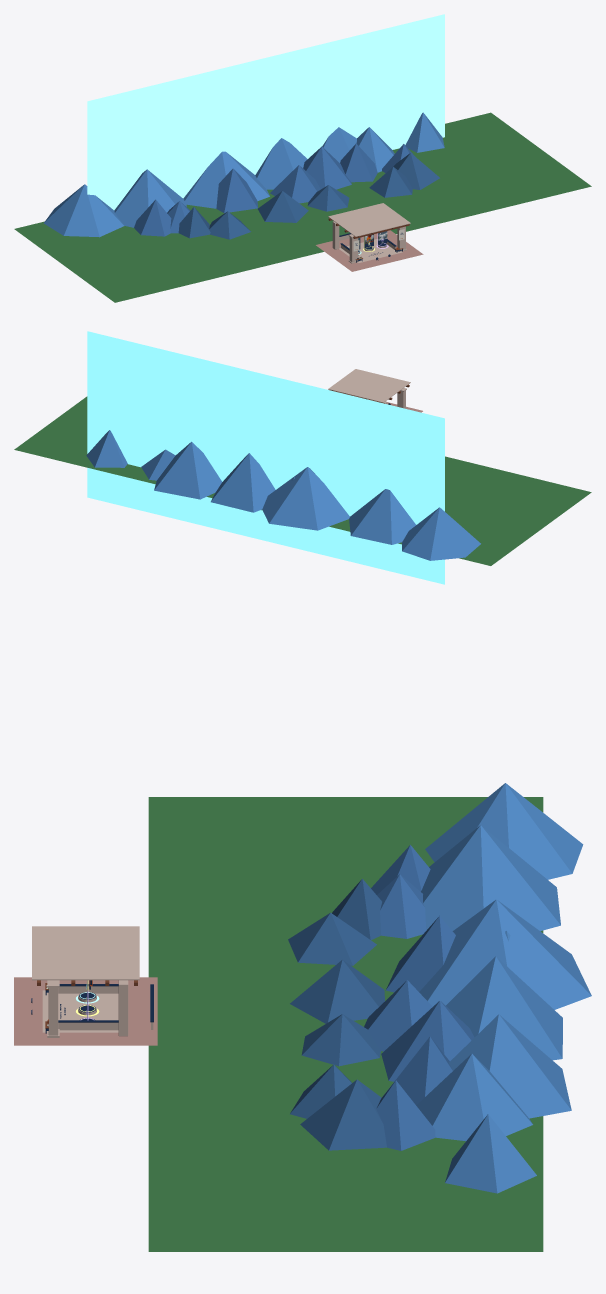
The model's file is DC_Hub.fbx.
3 views of the same model, one above another, from view 1: azimuth 30°, elevation 25°; view 2: azimuth 150°, elevation 25°; view 3: azimuth 270°, elevation 25° (orthographic). The views are drawn at different scales.
Parts seen in each view (by area): view 1: DC_ENV_Backdrop, DC_ENV_GroundFar, DC_ENV_Mountains_Far, DC_ENV_Mountains_Mid, DC_ENV_Mountains_Near, DC_ENV_CeilingBeams, DC_ENV_Floor, DC_ENV_Pillars, DC_ENV_FloorInlay; view 2: DC_ENV_Backdrop, DC_ENV_Mountains_Far, DC_ENV_GroundFar, DC_ENV_CeilingBeams; view 3: DC_ENV_GroundFar, DC_ENV_Mountains_Far, DC_ENV_Mountains_Near, DC_ENV_Mountains_Mid, DC_ENV_CeilingBeams, DC_ENV_Floor, DC_ENV_FloorInlay, DC_ENV_Railing, DC_ENV_Pillars.
Boxes of the visible parts, x1=… form: DC_ENV_Backdrop: x1=87, y1=14, x2=444, y2=210; DC_ENV_GroundFar: x1=14, y1=112, x2=591, y2=302; DC_ENV_Mountains_Far: x1=43, y1=112, x2=444, y2=237; DC_ENV_Mountains_Mid: x1=134, y1=143, x2=415, y2=236; DC_ENV_Mountains_Near: x1=178, y1=153, x2=439, y2=239; DC_ENV_CeilingBeams: x1=328, y1=203, x2=410, y2=238; DC_ENV_Floor: x1=316, y1=230, x2=423, y2=271; DC_ENV_Pillars: x1=332, y1=221, x2=406, y2=263; DC_ENV_FloorInlay: x1=339, y1=239, x2=402, y2=262; DC_ENV_Backdrop: x1=87, y1=331, x2=444, y2=584; DC_ENV_Mountains_Far: x1=86, y1=430, x2=480, y2=560; DC_ENV_GroundFar: x1=14, y1=396, x2=591, y2=565; DC_ENV_CeilingBeams: x1=328, y1=369, x2=410, y2=403; DC_ENV_GroundFar: x1=148, y1=797, x2=543, y2=1251; DC_ENV_Mountains_Far: x1=416, y1=783, x2=591, y2=1193; DC_ENV_Mountains_Near: x1=288, y1=879, x2=386, y2=1150; DC_ENV_Mountains_Mid: x1=364, y1=845, x2=474, y2=1150; DC_ENV_CeilingBeams: x1=32, y1=926, x2=139, y2=985; DC_ENV_Floor: x1=14, y1=977, x2=157, y2=1045; DC_ENV_FloorInlay: x1=42, y1=990, x2=118, y2=1032; DC_ENV_Railing: x1=58, y1=984, x2=153, y2=1030; DC_ENV_Pillars: x1=47, y1=980, x2=128, y2=1037.
Bounding box in the file's own units: 12000 × 4000 × 6442.
32 materials, 8 textured.
